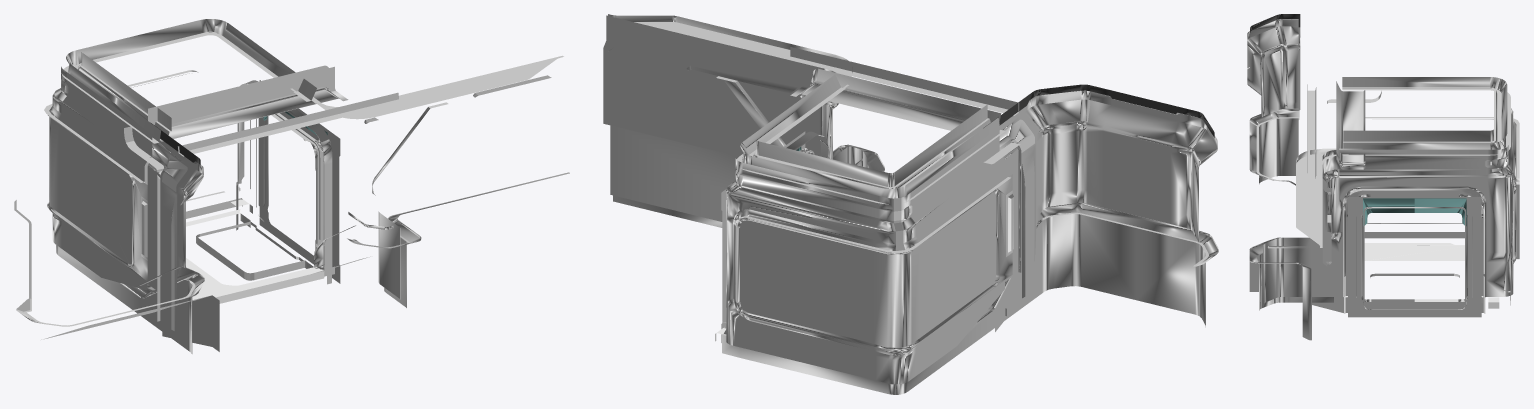
The model's file is commons_transit_right.glb.
3 views of the same model, side by side, from view 1: azimuth 30°, elevation 25°; view 2: azimuth 150°, elevation 25°; view 3: azimuth 270°, elevation 25° (orthographic). The views are drawn at different scales.
Size of the model in its own units: 22.76 by 8.45 by 11.54.
